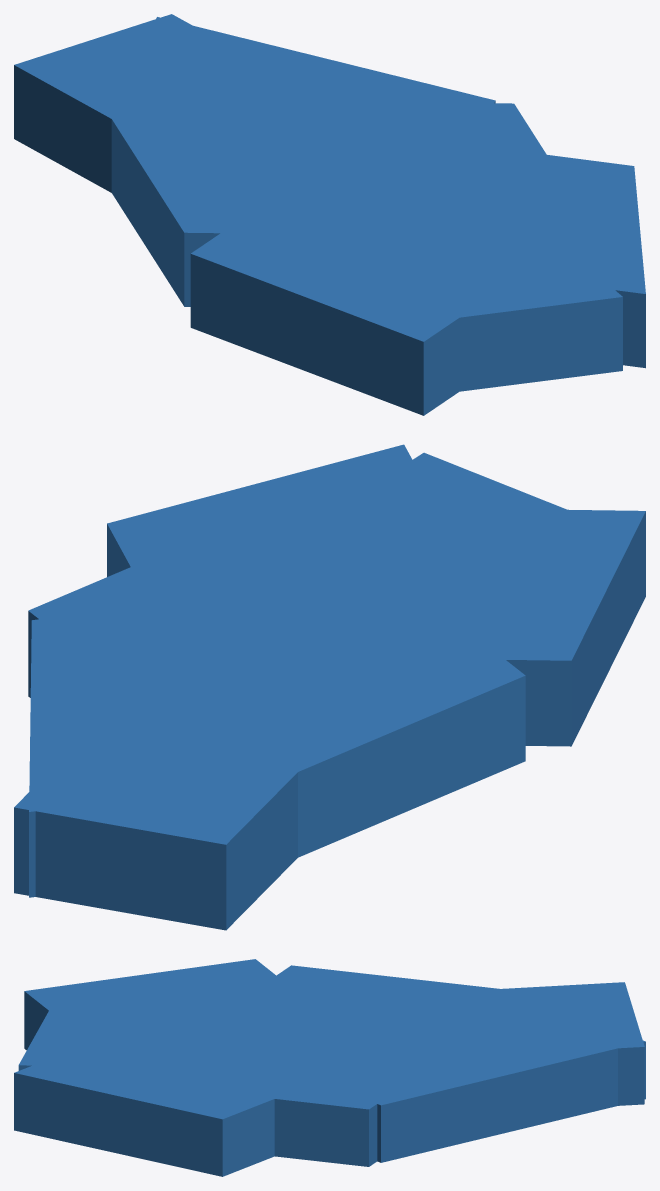
Rendered from p_Puddle.fbx.
3 views of the same model, one above another, from view 1: azimuth 30°, elevation 25°; view 2: azimuth 150°, elevation 25°; view 3: azimuth 270°, elevation 25° (orthographic). The views are drawn at different scales.
Visible parts, largest first — view 1: Water__4_, Water__5_, Water__7_, Water__8_, Water__6_, Water__9_; view 2: Water__5_, Water__4_, Water__7_, Water__6_, Water__8_, Water__9_; view 3: Water__5_, Water__6_, Water__4_, Water__9_, Water__7_, Water__8_.
Part boxes in pixels (<box>): Water__4_: <box>190,137,597,415</box>; Water__5_: <box>99,98,599,306</box>; Water__7_: <box>14,14,327,192</box>; Water__8_: <box>377,247,622,391</box>; Water__6_: <box>114,17,495,117</box>; Water__9_: <box>520,155,645,368</box>; Water__5_: <box>28,496,525,857</box>; Water__4_: <box>192,505,645,746</box>; Water__7_: <box>14,695,299,930</box>; Water__6_: <box>29,598,238,897</box>; Water__8_: <box>321,452,611,593</box>; Water__9_: <box>107,444,444,586</box>; Water__5_: <box>121,965,538,1166</box>; Water__6_: <box>276,999,645,1162</box>; Water__4_: <box>24,959,365,1086</box>; Water__9_: <box>14,1038,282,1176</box>; Water__7_: <box>409,982,644,1105</box>; Water__8_: <box>18,994,181,1070</box>.
Size of the model in its own units: 299 by 50 by 497.
